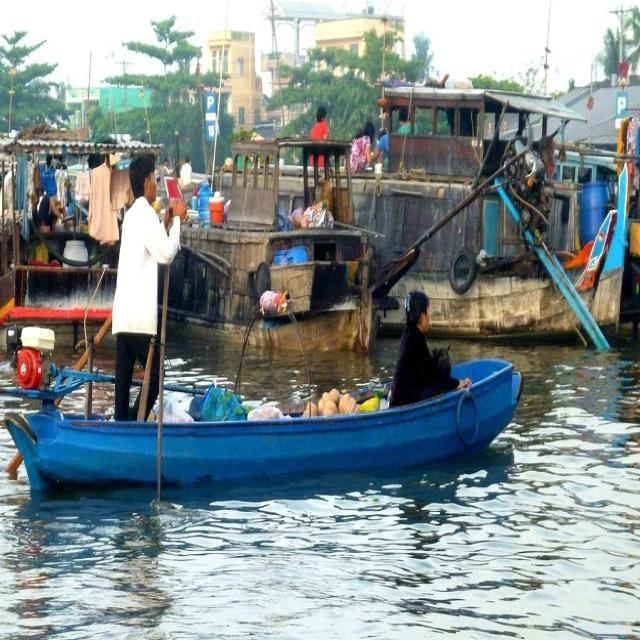boat: (0, 351, 537, 498), (185, 142, 372, 364), (0, 132, 179, 343)
